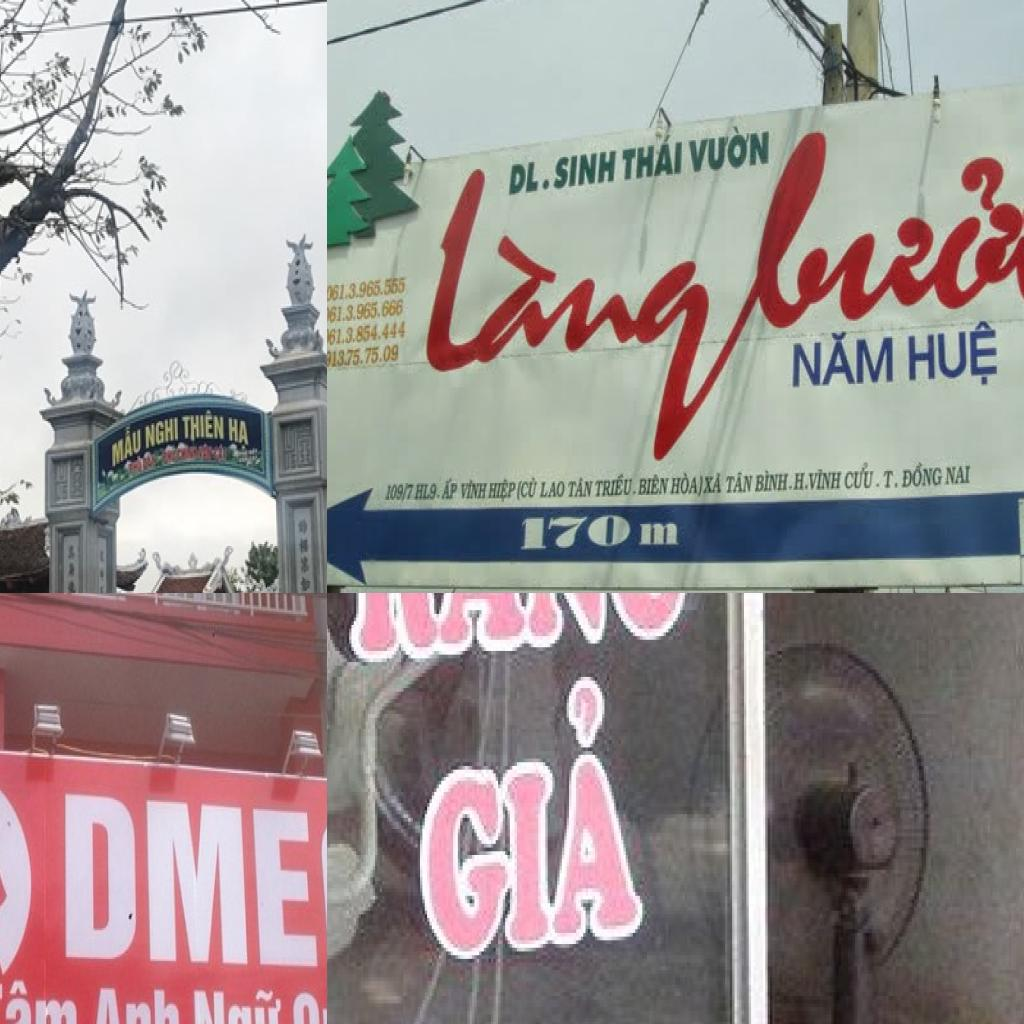text: (406, 156, 722, 470), (716, 122, 1024, 336), (62, 791, 327, 979), (330, 593, 696, 666), (512, 507, 684, 563), (788, 323, 900, 394), (908, 310, 1000, 390), (684, 118, 772, 177), (0, 971, 82, 1024), (189, 982, 287, 1024), (89, 982, 182, 1024), (620, 131, 686, 186), (553, 145, 618, 193), (327, 273, 409, 305), (327, 319, 407, 348), (327, 296, 407, 324), (327, 341, 401, 371), (507, 155, 554, 200), (111, 419, 144, 472), (181, 408, 226, 446), (143, 414, 181, 454), (843, 459, 883, 493), (902, 459, 944, 488), (595, 473, 637, 498), (754, 469, 793, 495), (669, 471, 705, 498), (226, 416, 251, 454), (808, 468, 844, 493), (725, 469, 755, 497), (638, 472, 670, 496), (487, 478, 517, 503), (460, 478, 488, 503), (944, 463, 972, 488), (517, 474, 540, 504), (385, 482, 416, 504), (414, 480, 442, 504), (567, 476, 595, 500), (541, 480, 567, 502), (702, 471, 724, 497), (442, 476, 460, 504), (882, 468, 902, 492), (794, 470, 812, 494)
